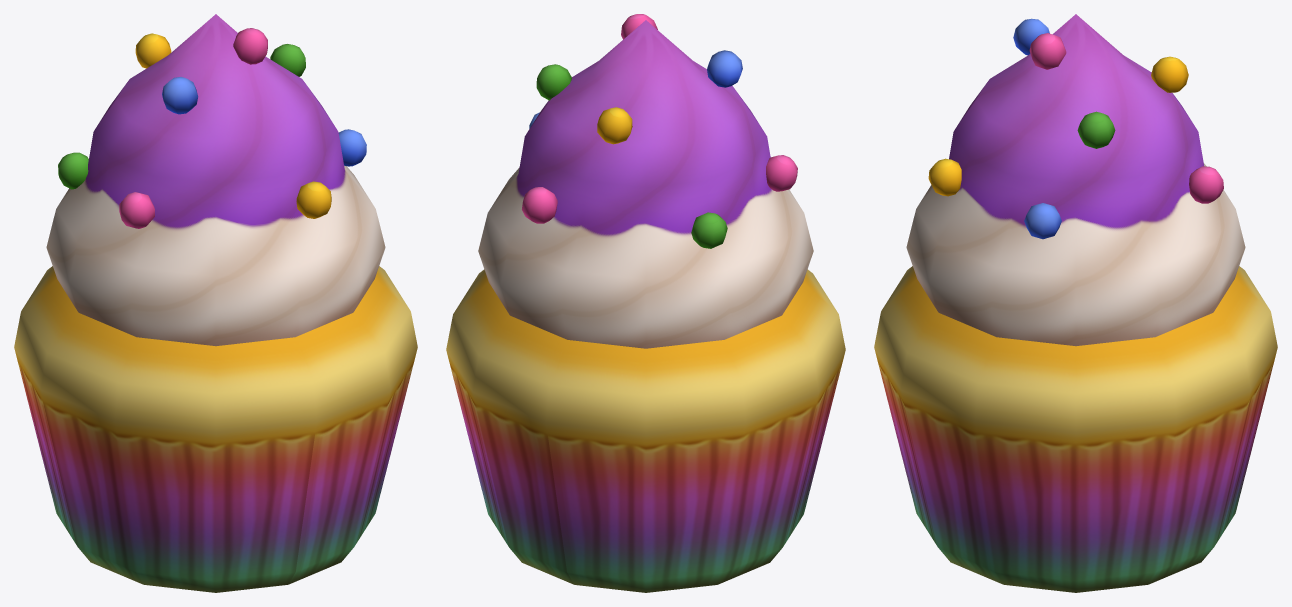
File: Cupcake_Rainbow.fbx
The picture shows the model from 3 angles, left to right: view 1: azimuth 30°, elevation 25°; view 2: azimuth 150°, elevation 25°; view 3: azimuth 270°, elevation 25°; orthographic projection.
Parts seen in each view (by area): view 1: Cupcake_Rainbow; view 2: Cupcake_Rainbow; view 3: Cupcake_Rainbow.
Part boxes in pixels (<box>): Cupcake_Rainbow: <box>14,14,417,592</box>; Cupcake_Rainbow: <box>446,14,845,592</box>; Cupcake_Rainbow: <box>874,14,1277,592</box>.
Bounding box in the file's own units: 39.68 × 56.14 × 39.68.
